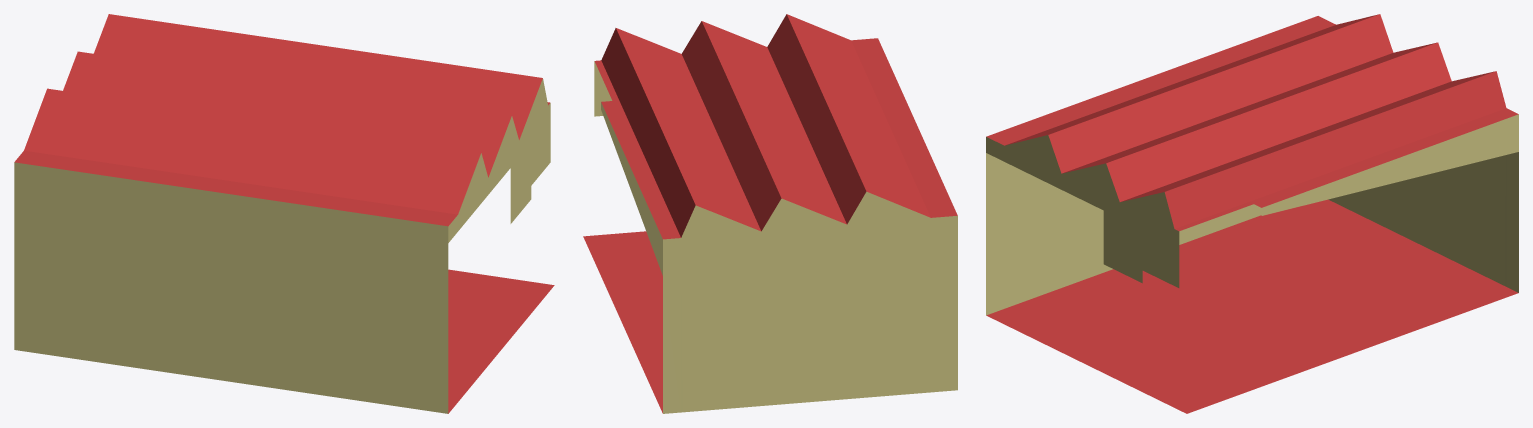
3 views of the same model, side by side, from view 1: azimuth 30°, elevation 25°; view 2: azimuth 150°, elevation 25°; view 3: azimuth 270°, elevation 25° (orthographic). The views are drawn at different scales.
Size of the model in its own units: 36.28 by 37.23 by 16.28.
